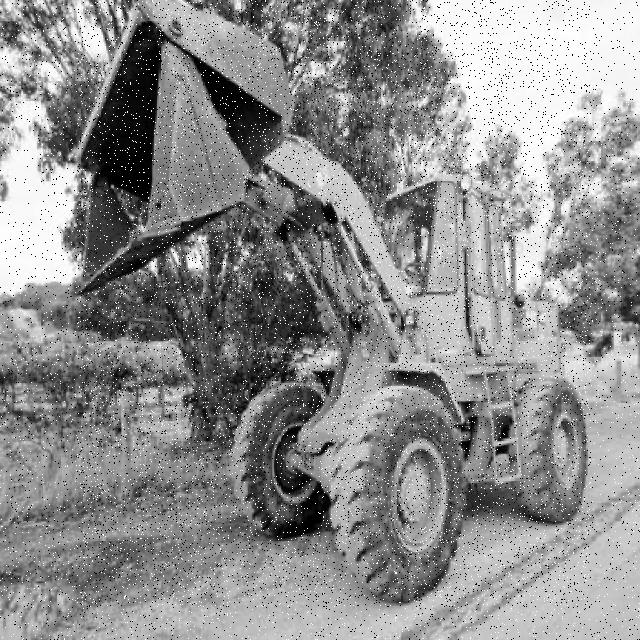Van: (77, 0, 591, 607)
